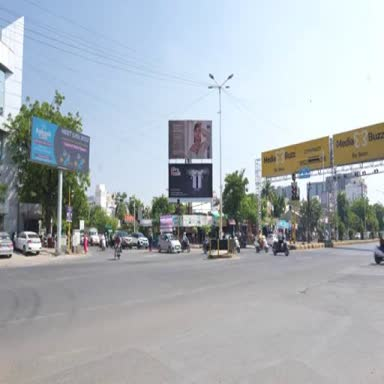Car: (15, 232, 41, 254), (158, 234, 181, 253), (0, 232, 14, 258), (112, 231, 132, 249), (132, 233, 148, 248), (88, 229, 99, 245), (267, 234, 277, 247)
